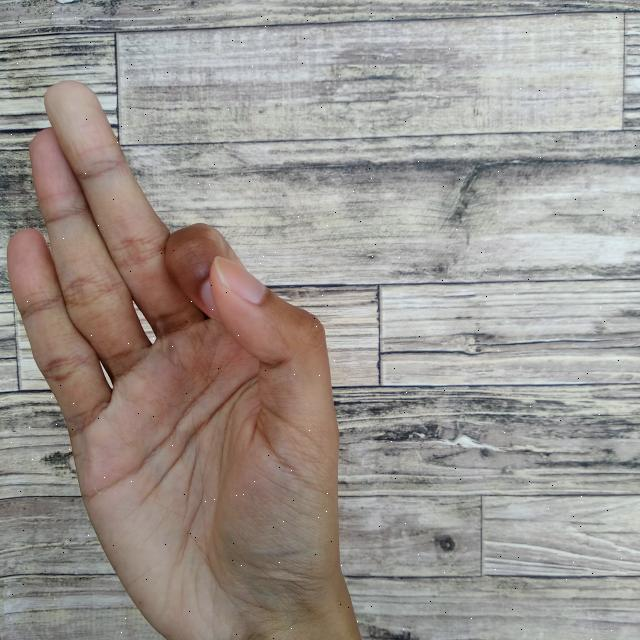F: (7, 79, 360, 640)
